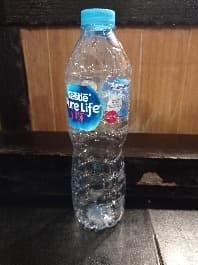Plastik: (70, 8, 125, 225)
